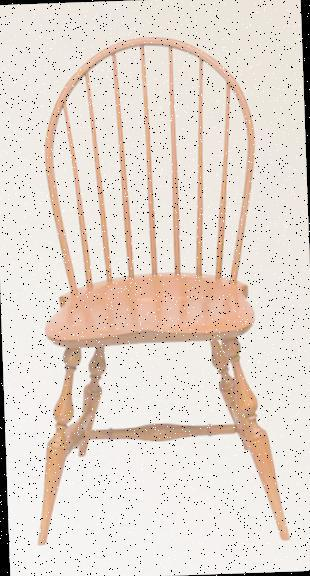Silla: (29, 36, 288, 546)
